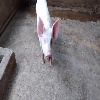heo: (36, 15, 58, 63)
